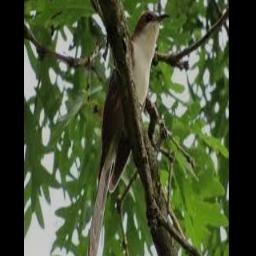Cuckoo: (86, 12, 170, 256)
